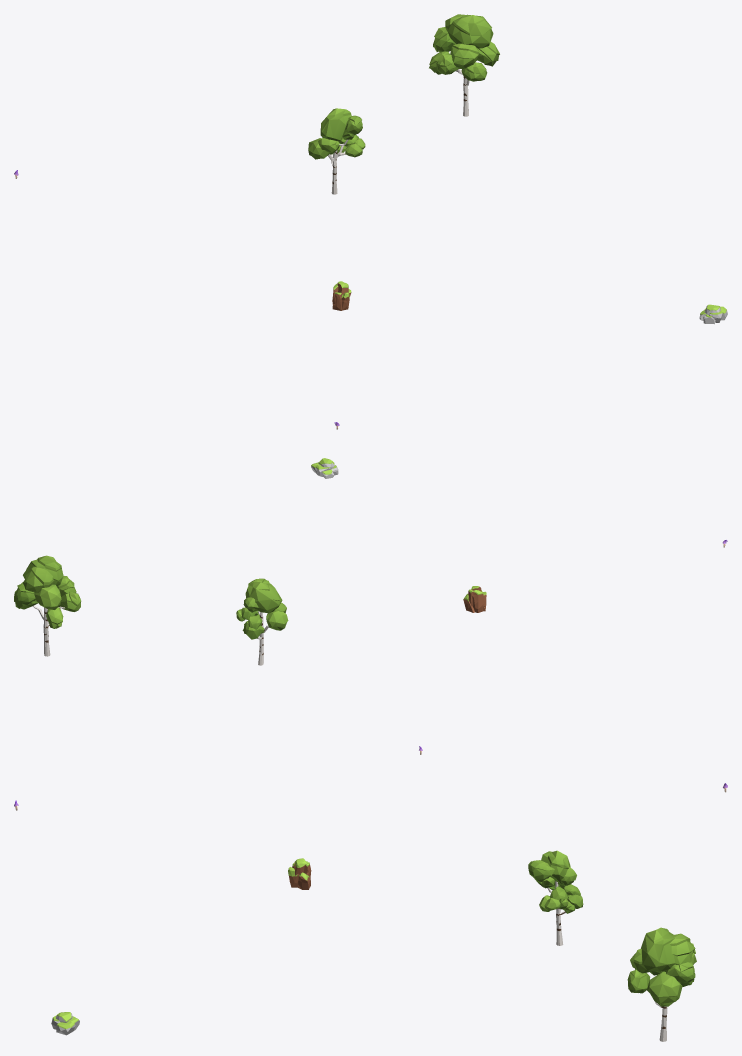
File: forest.glb
3 renders of one model, top to bottom at view 1: azimuth 30°, elevation 25°; view 2: azimuth 150°, elevation 25°; view 3: azimuth 270°, elevation 25°, orthographic. The views are drawn at different scales.
Visible parts, largest first — view 1: PP_Birch_Tree_06, PP_Birch_Tree_05; view 2: PP_Birch_Tree_06, PP_Birch_Tree_05, PP_Rock_Pile_Forest_Moss_05; view 3: PP_Birch_Tree_06, PP_Birch_Tree_05, PP_Rock_Pile_Forest_Moss_05, PP_Rock_Moss_Grown_11.
Boxes of the visible parts, <box> form: PP_Birch_Tree_06: <box>429,14,499,116</box>; PP_Birch_Tree_05: <box>308,108,365,194</box>; PP_Birch_Tree_06: <box>14,555,81,656</box>; PP_Birch_Tree_05: <box>236,578,288,665</box>; PP_Rock_Pile_Forest_Moss_05: <box>463,586,486,612</box>; PP_Birch_Tree_06: <box>627,927,696,1041</box>; PP_Birch_Tree_05: <box>528,850,583,945</box>; PP_Rock_Pile_Forest_Moss_05: <box>288,858,311,889</box>; PP_Rock_Moss_Grown_11: <box>51,1012,79,1035</box>.
Bounding box in the file's own units: 146 × 31.45 × 178.
1 material, 1 textured.
